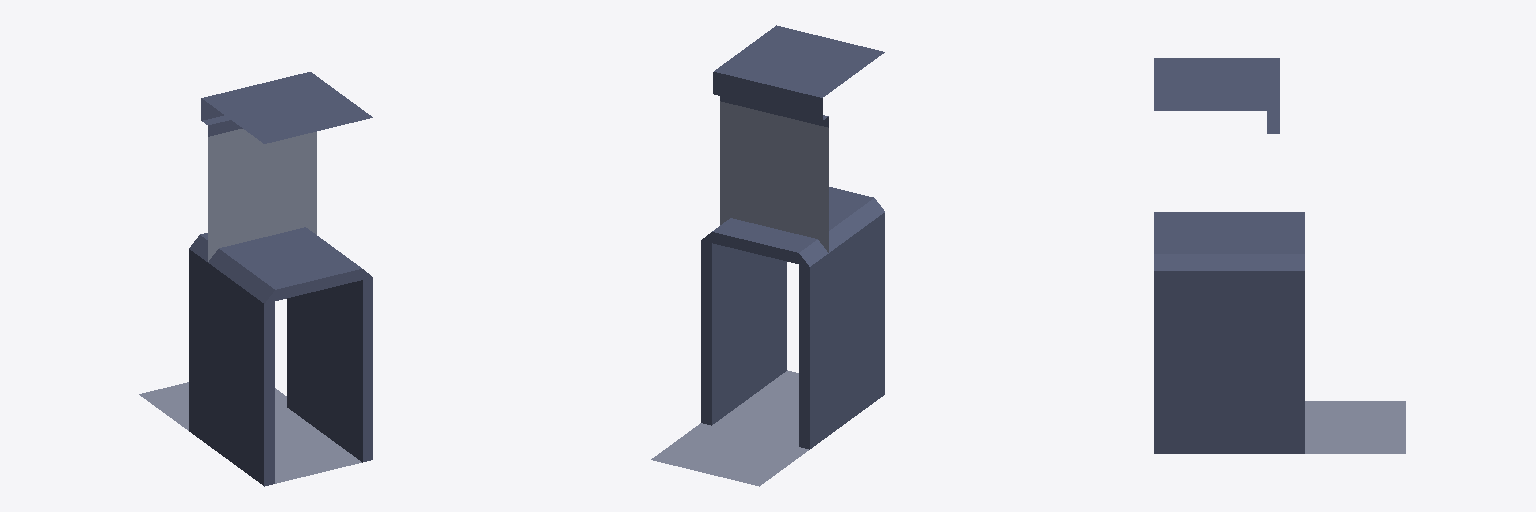
Rendered from structure-doorway.obj.
The picture shows the model from 3 angles: view 1: azimuth 30°, elevation 25°; view 2: azimuth 150°, elevation 25°; view 3: azimuth 270°, elevation 25°; orthographic projection.
Visible parts, largest first — view 1: structure-doorway; view 2: structure-doorway; view 3: structure-doorway.
Boxes of the visible parts, box(x1,y1,x2,y2) form: structure-doorway: box(139, 72, 372, 486); structure-doorway: box(651, 25, 884, 486); structure-doorway: box(1154, 58, 1405, 453).
Bounding box in the file's own units: 1 × 3 × 2.